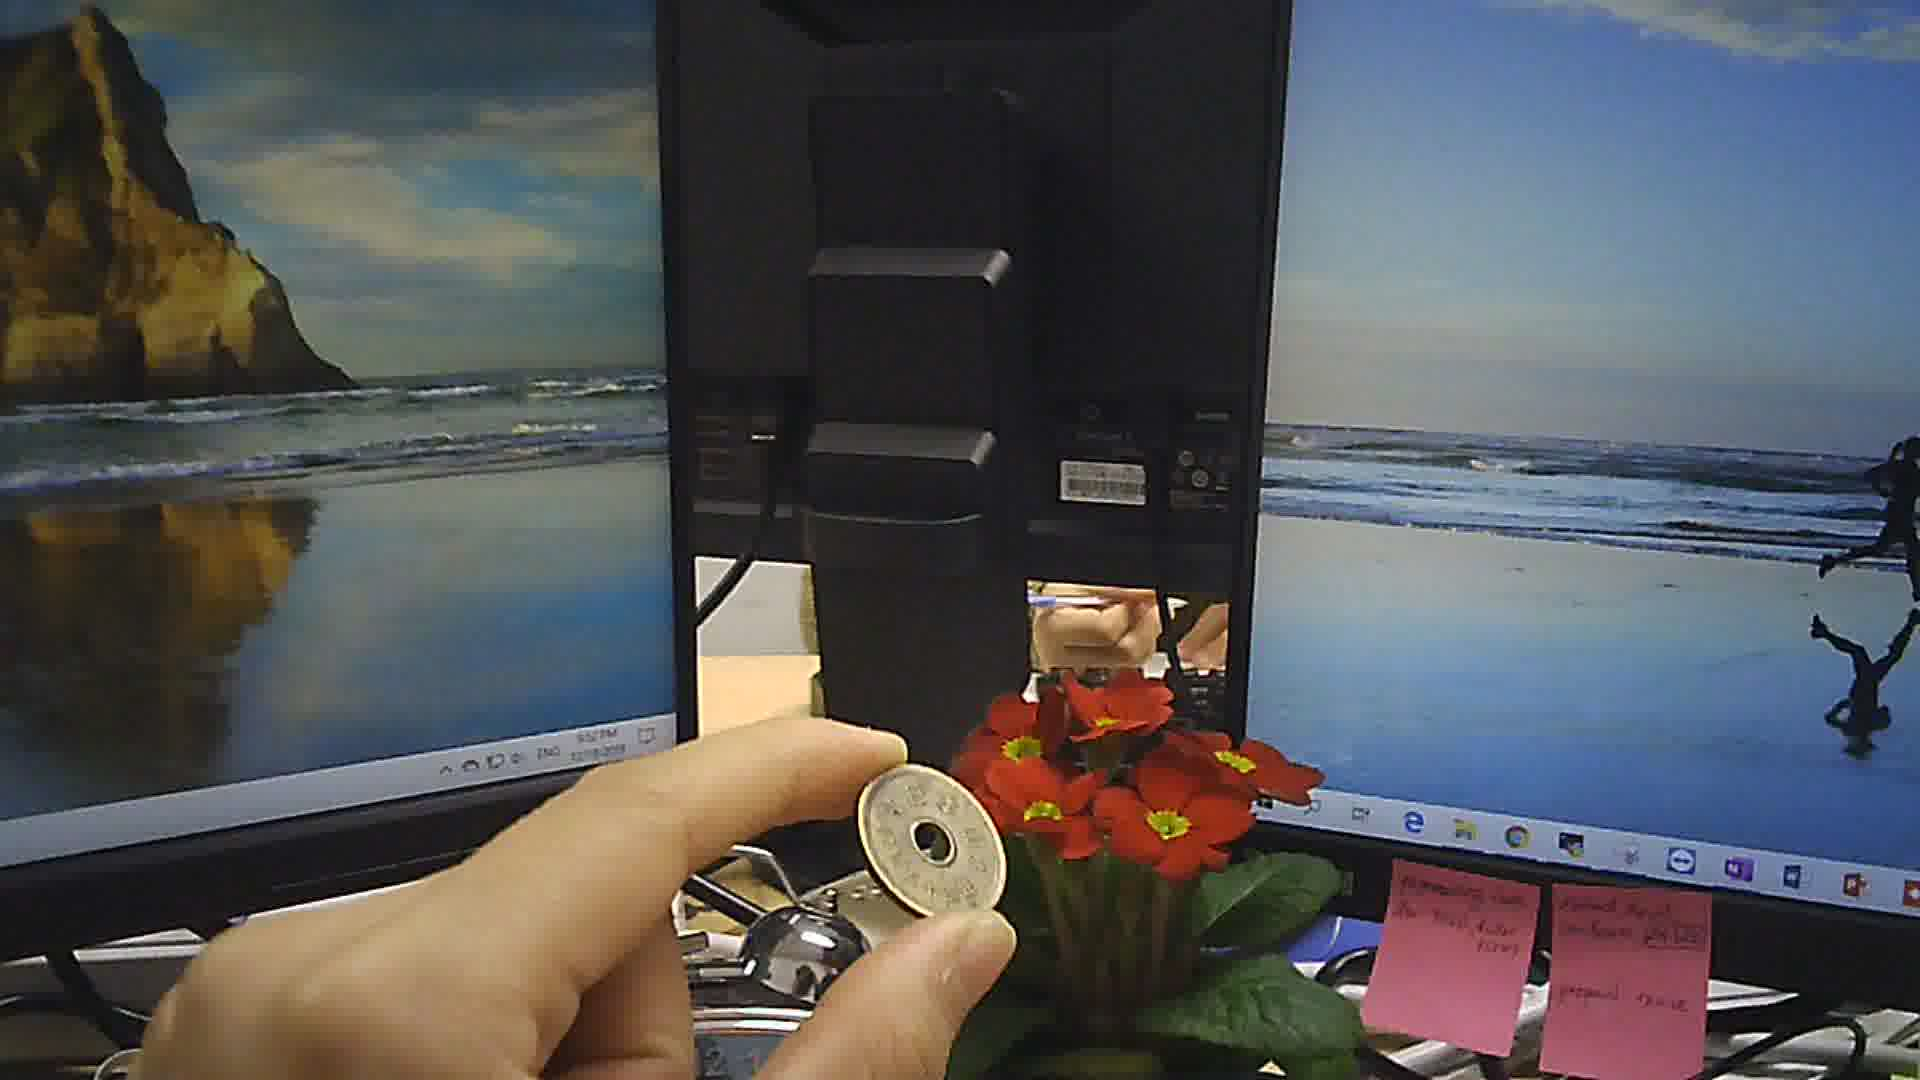5 Yen: (851, 757, 1019, 924)
